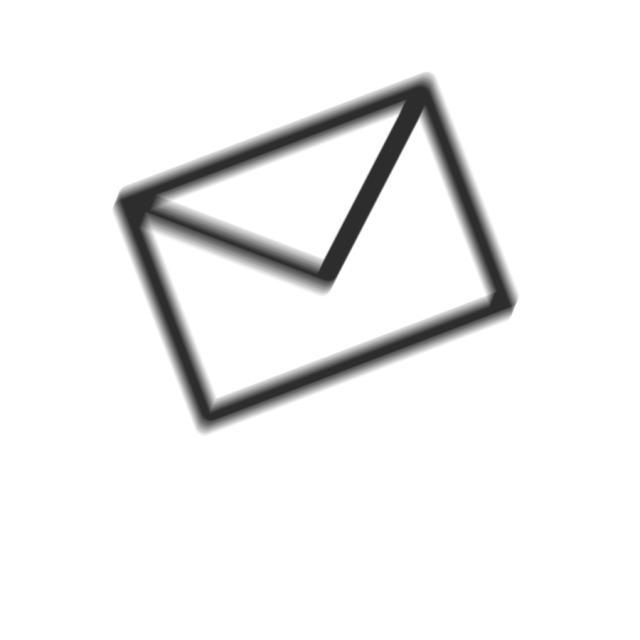letter: (108, 67, 524, 440)
